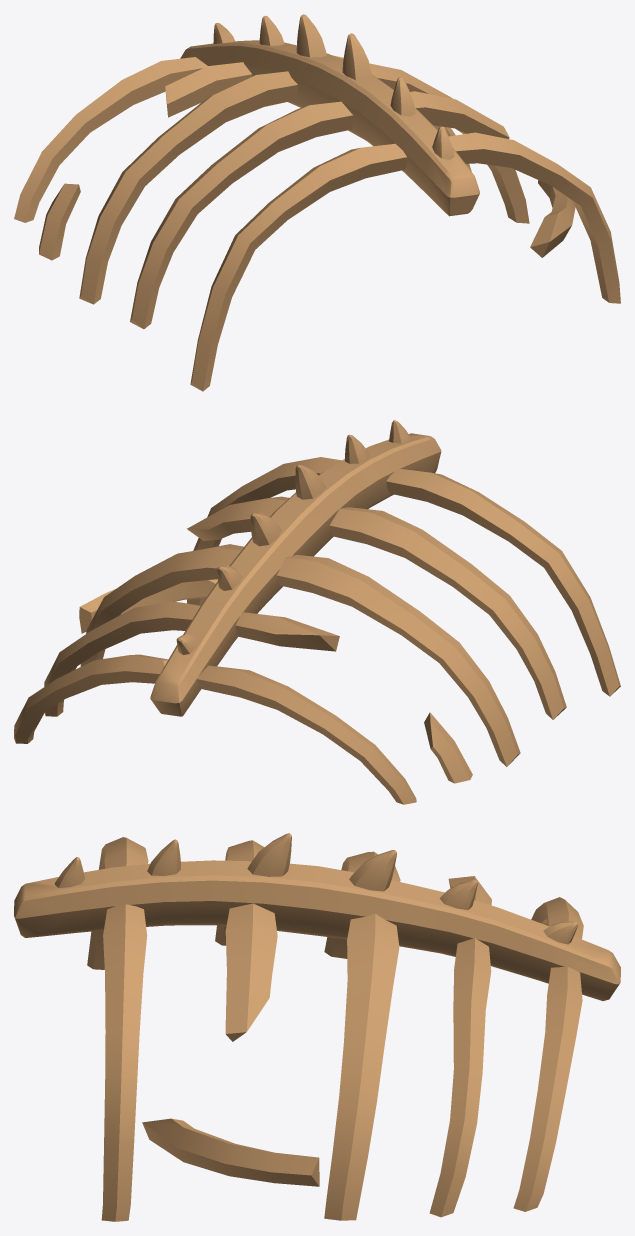
Rendered from quaternius-pirate-environment-largebones.glb.
The picture shows the model from 3 angles, top to bottom: view 1: azimuth 30°, elevation 25°; view 2: azimuth 150°, elevation 25°; view 3: azimuth 270°, elevation 25°; orthographic projection. The views are drawn at different scales.
Parts seen in each view (by area): view 1: Environment_LargeBones; view 2: Environment_LargeBones; view 3: Environment_LargeBones.
Boxes of the visible parts, x1,y1,x2,y2 form: Environment_LargeBones: [14, 14, 620, 391]; Environment_LargeBones: [14, 420, 620, 804]; Environment_LargeBones: [14, 833, 620, 1221].
Bounding box in the file's own units: 6.5 × 3.43 × 6.62.
Materials: 1 (1 with a texture image).
